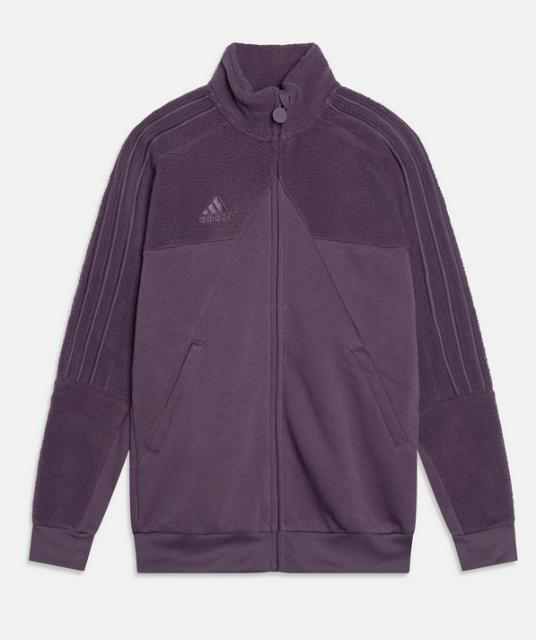Adidas: (198, 192, 238, 226), (200, 195, 230, 216), (200, 211, 234, 224)
